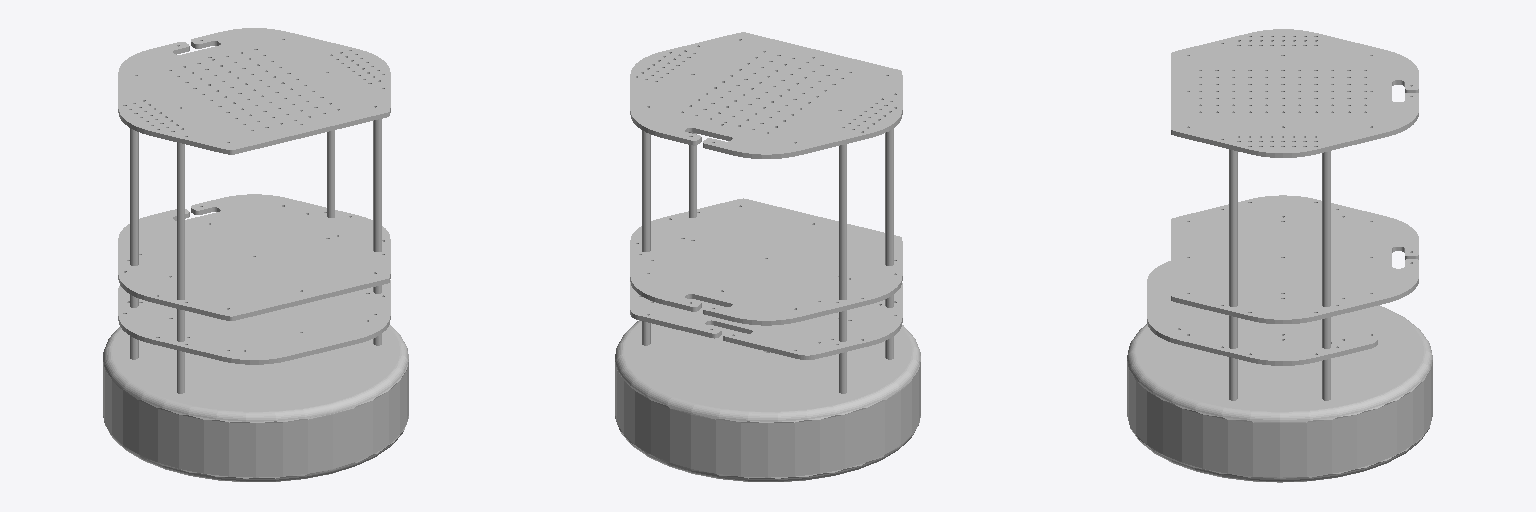
File: Turtlebot Assem.obj
The picture shows the model from 3 angles: view 1: azimuth 30°, elevation 25°; view 2: azimuth 150°, elevation 25°; view 3: azimuth 270°, elevation 25°; orthographic projection.
Visible parts, largest first — view 1: Kobuki Base, Layer B, Layer C, Layer A, ROD_2, ROD_3, ROD, ROD_1; view 2: Kobuki Base, Layer B, Layer C, Layer A, ROD_3, ROD_2, ROD_1, ROD; view 3: Kobuki Base, Layer B, Layer C, Layer A, ROD, ROD_1.
Part boxes in pixels (x1,y1,x2,y2): Kobuki Base: (103,325,408,481); Layer B: (118,28,390,154); Layer C: (118,194,390,320); Layer A: (118,280,390,364); ROD_2: (177,131,184,393); ROD_3: (130,96,138,359); ROD: (373,83,381,345); ROD_1: (327,48,334,217); Kobuki Base: (615,320,920,481); Layer B: (630,32,902,158); Layer C: (630,198,902,325); Layer A: (630,282,902,359); ROD_3: (839,131,846,393); ROD_2: (885,96,893,359); ROD_1: (642,83,650,345); ROD: (689,48,696,217); Kobuki Base: (1127,305,1432,482); Layer B: (1171,29,1418,157); Layer C: (1171,195,1418,323); Layer A: (1147,261,1377,365); ROD: (1229,139,1237,400); ROD_1: (1322,138,1330,400).
Size of the model in its own units: 354 by 420 by 354.